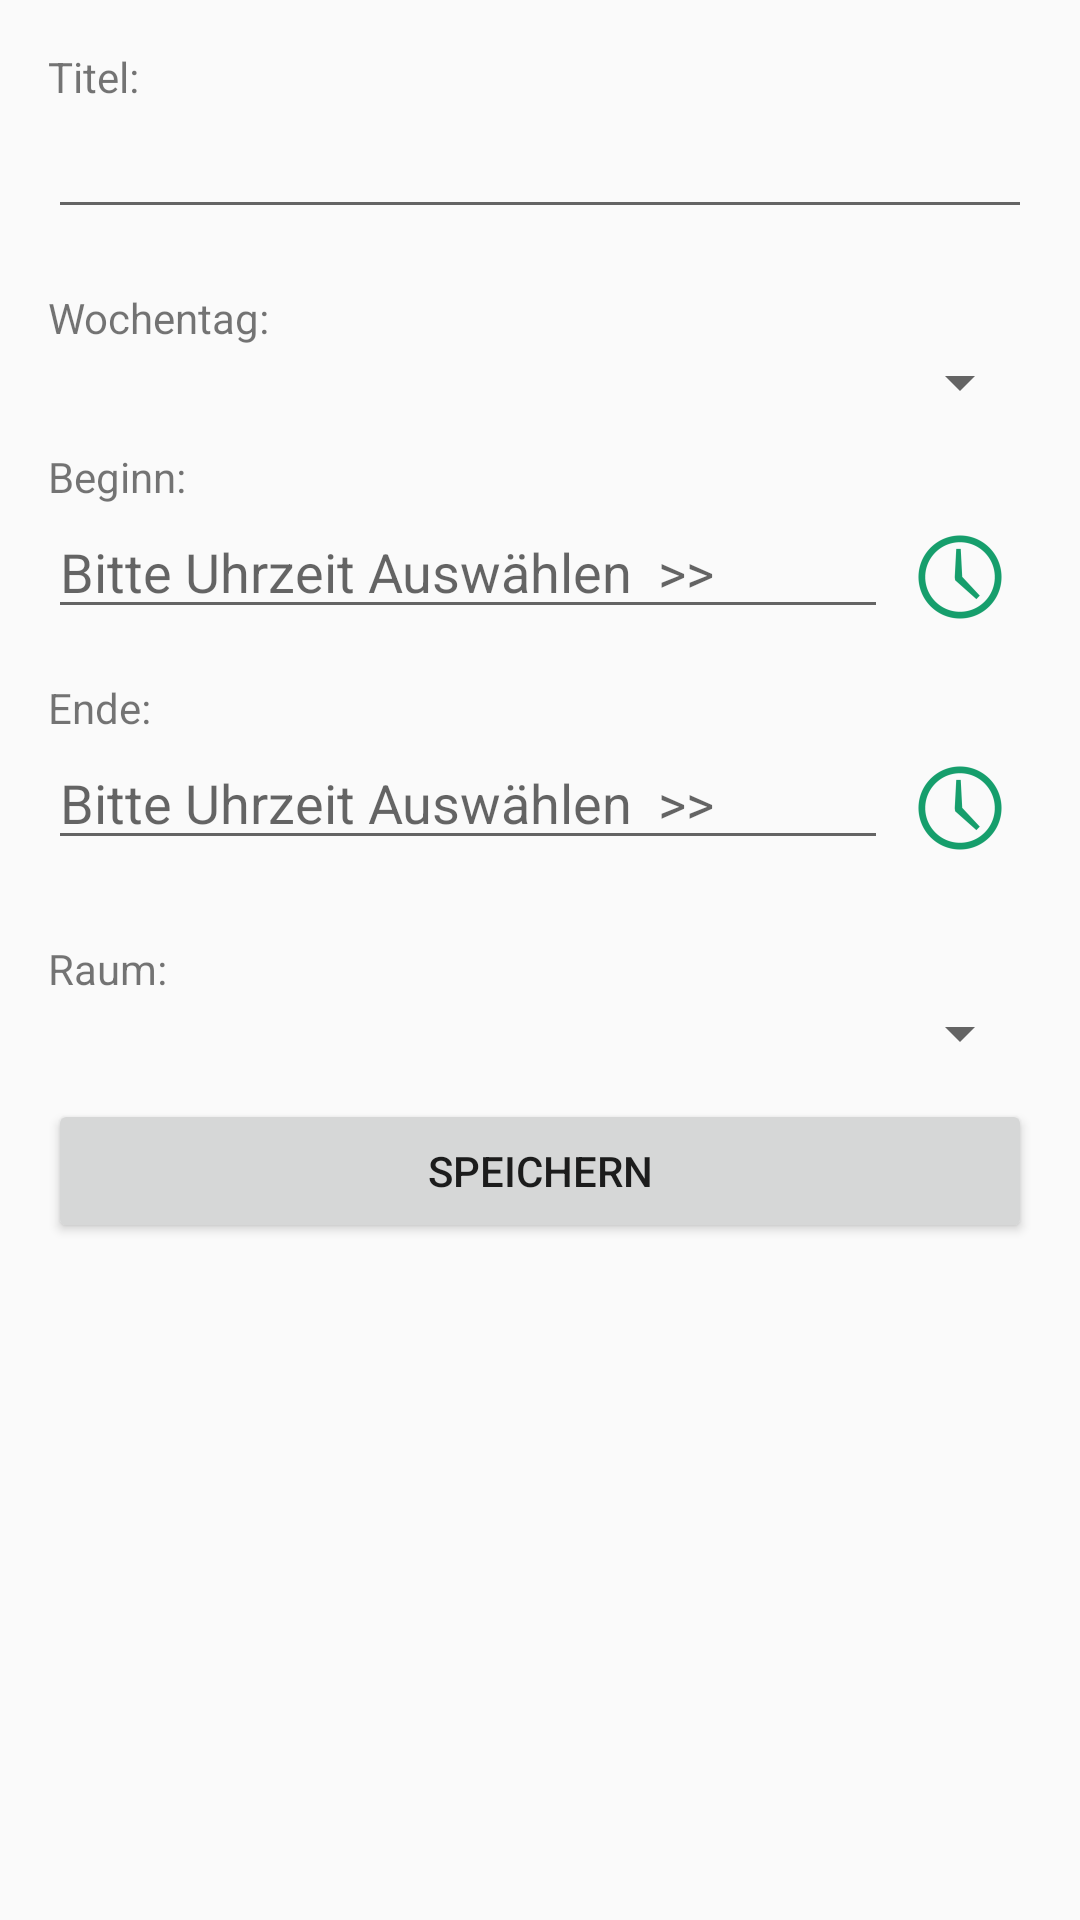

Locate icon controls on the screen. Image size 1080×1920, boxes as [x1=x1, y1=y1, x2=x2, y2=y2].
clock: [x1=918, y1=535, x2=1002, y2=619], [x1=918, y1=766, x2=1002, y2=850]
